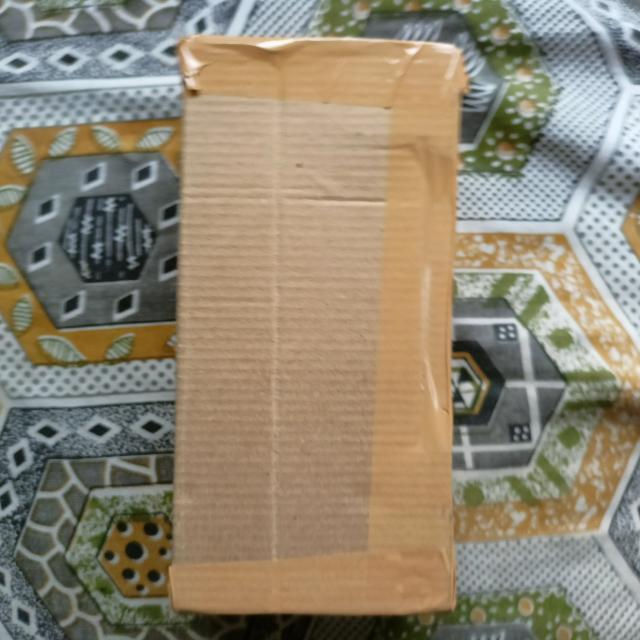box: (168, 35, 470, 621)
